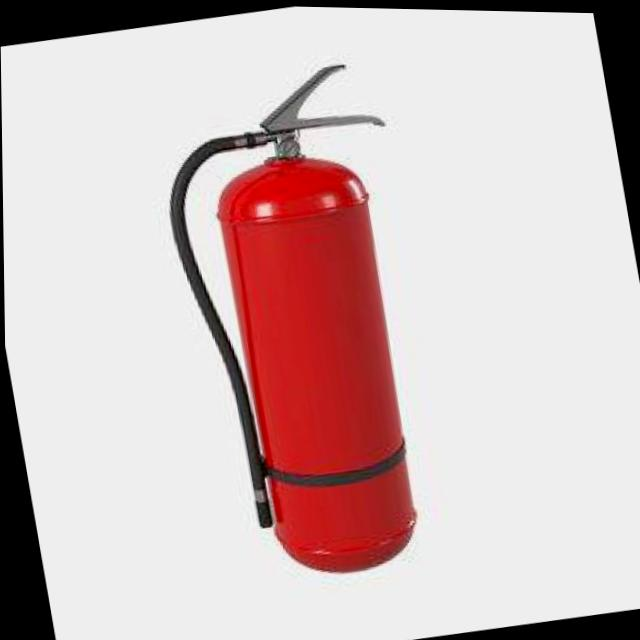FireExtinguisher: (139, 45, 463, 595)
